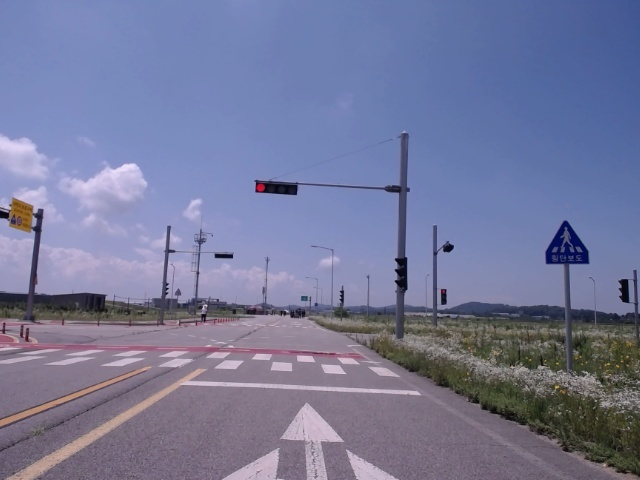red_4: (255, 183, 297, 195)
